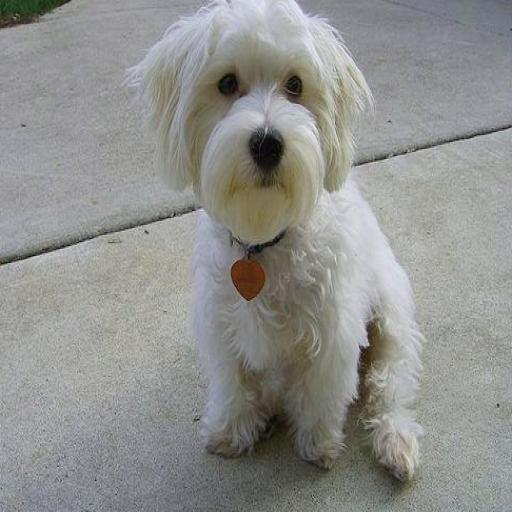dog_face: (131, 0, 353, 235)
